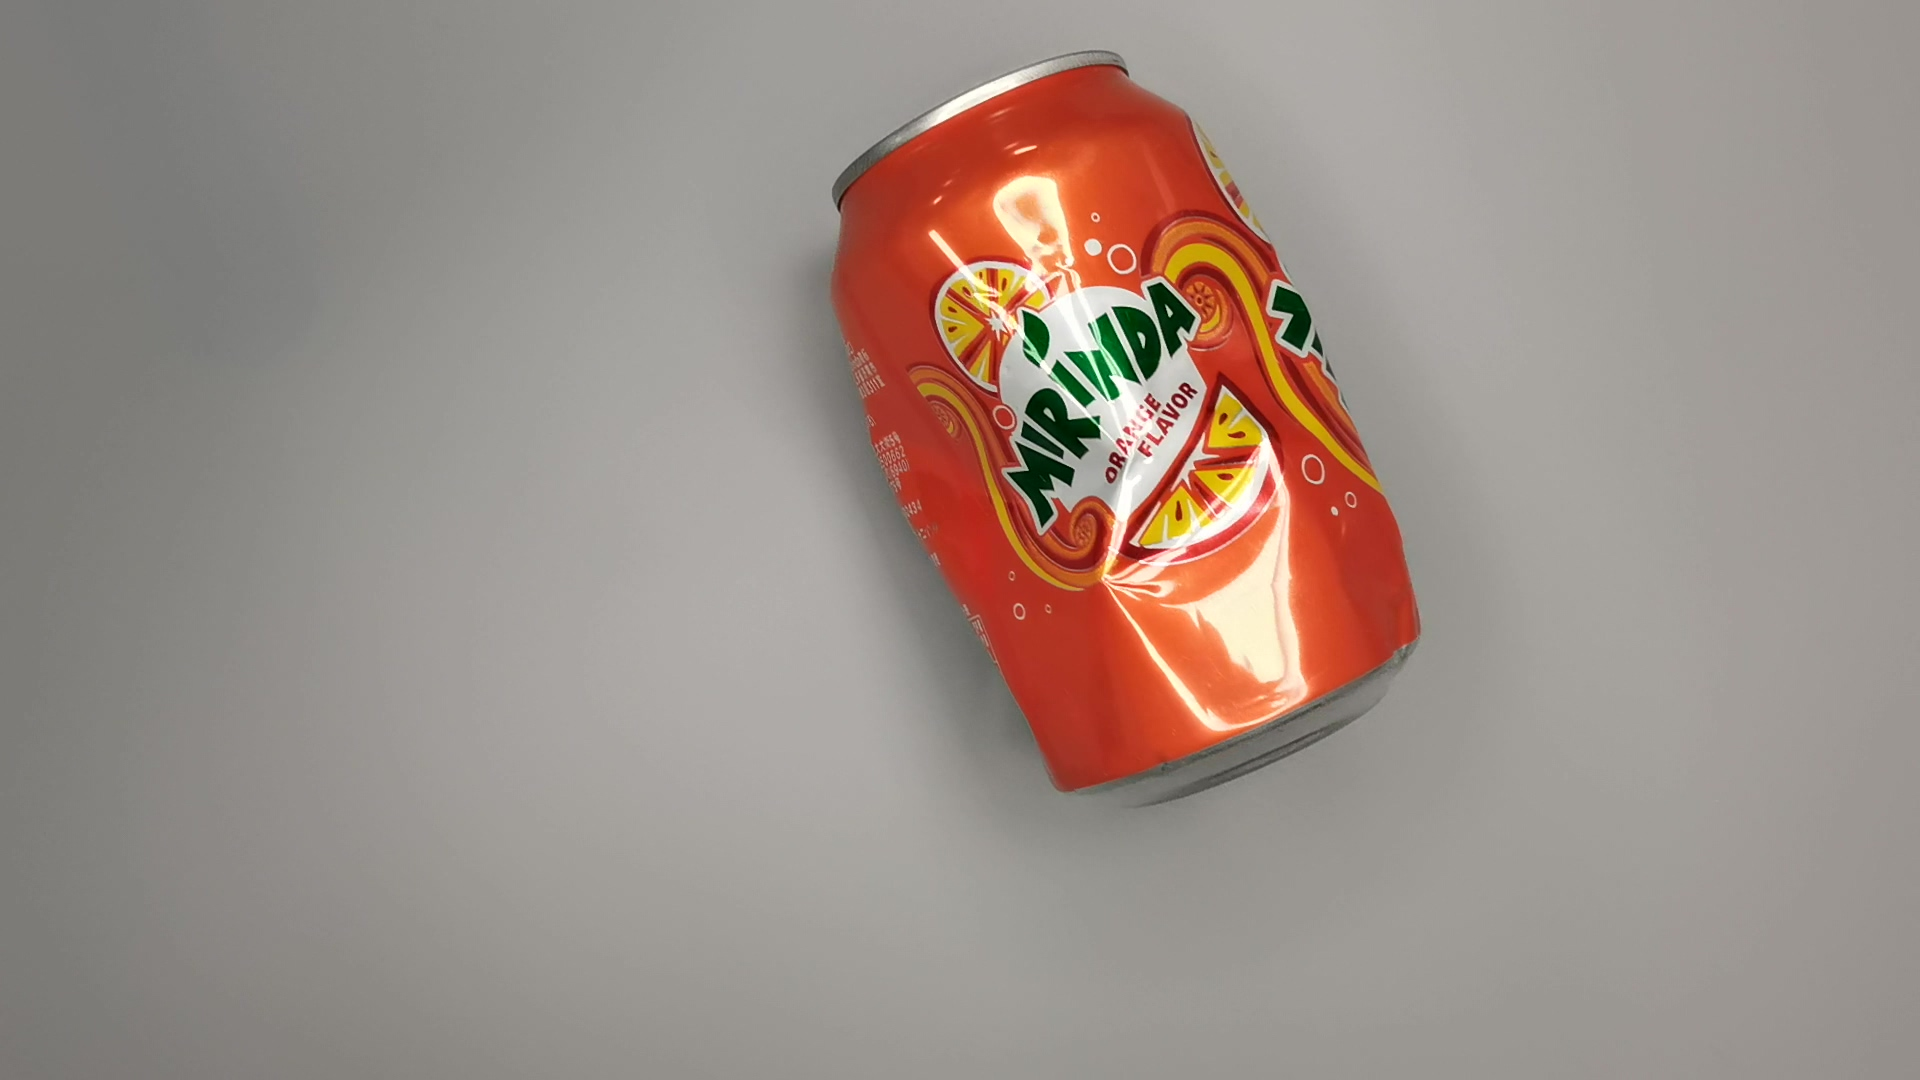can: (822, 44, 1437, 818)
